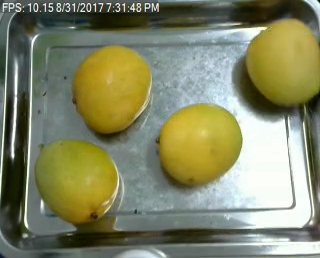Mango: (33, 140, 119, 224), (157, 103, 243, 185), (73, 45, 151, 134), (246, 17, 320, 107)
